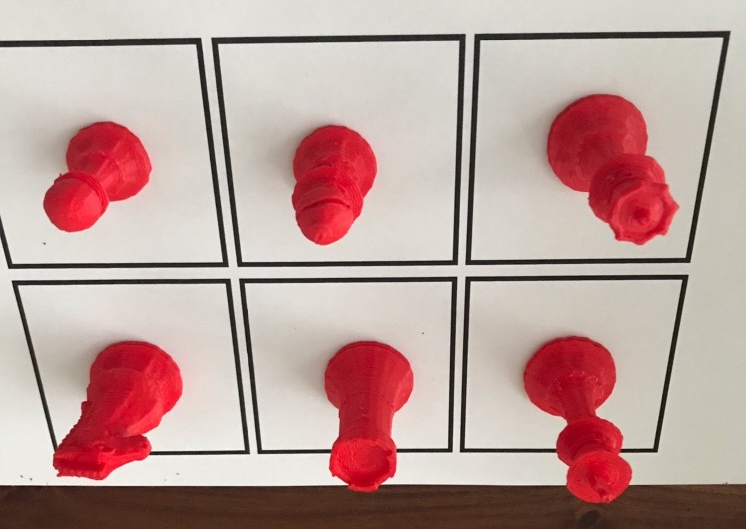Red Bishop: (275, 112, 384, 262)
Red Castle: (306, 337, 415, 501)
Red King: (509, 327, 647, 511)
Red Knight: (36, 333, 189, 490)
Red Pawn: (29, 116, 151, 248)
Red Queen: (534, 78, 685, 247)
